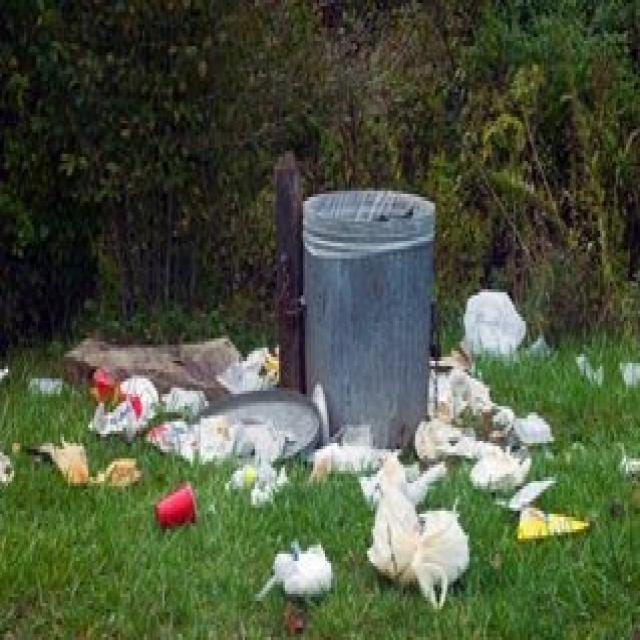plastic: (86, 347, 396, 511), (417, 284, 602, 545), (300, 193, 435, 448), (354, 455, 475, 598), (30, 439, 145, 490), (256, 547, 339, 602)
